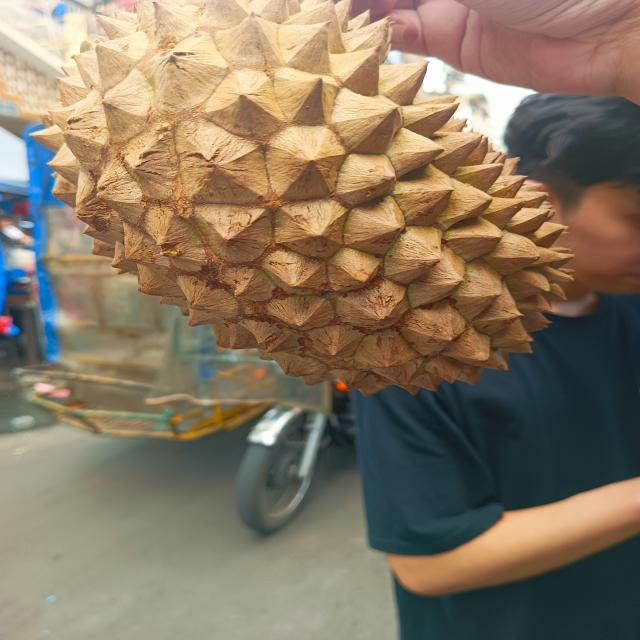mature: (34, 0, 574, 395)
